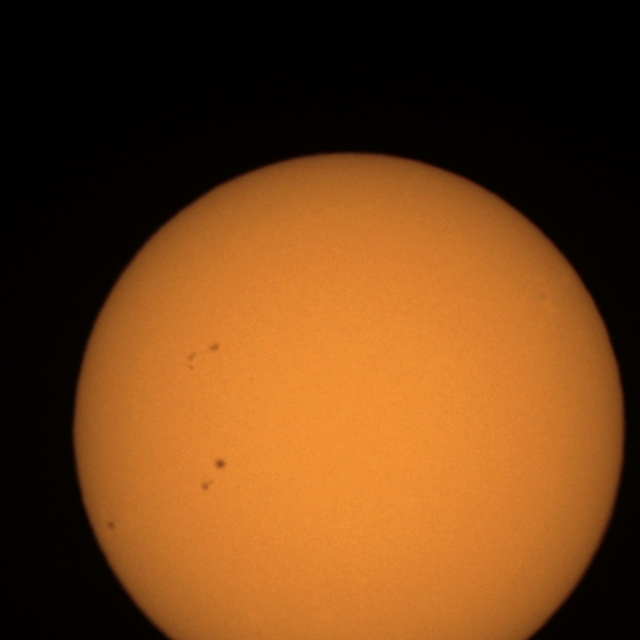sunspot: (185, 342, 220, 372), (200, 458, 227, 494), (186, 351, 198, 373), (212, 456, 228, 472), (200, 478, 216, 493), (208, 341, 221, 354), (106, 519, 117, 532)
